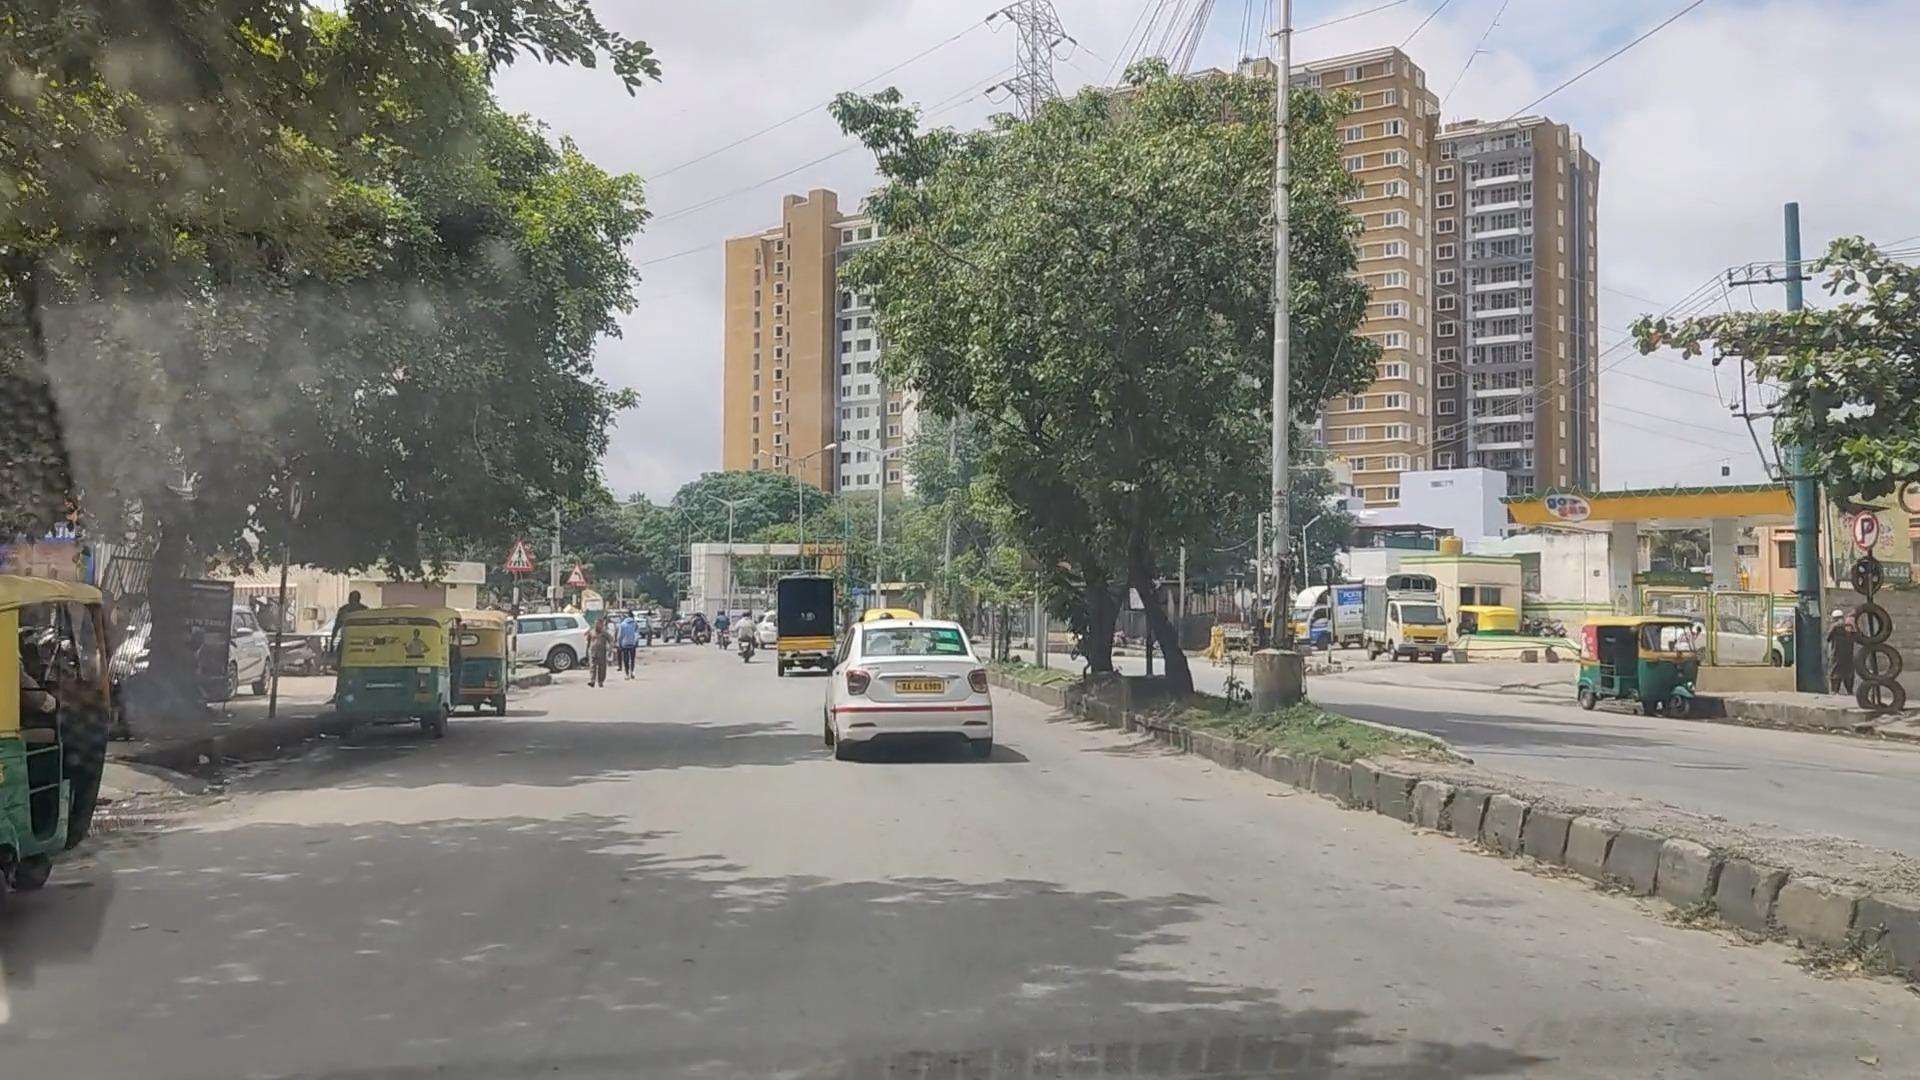LMV: (828, 607, 1009, 761), (320, 620, 450, 748)
